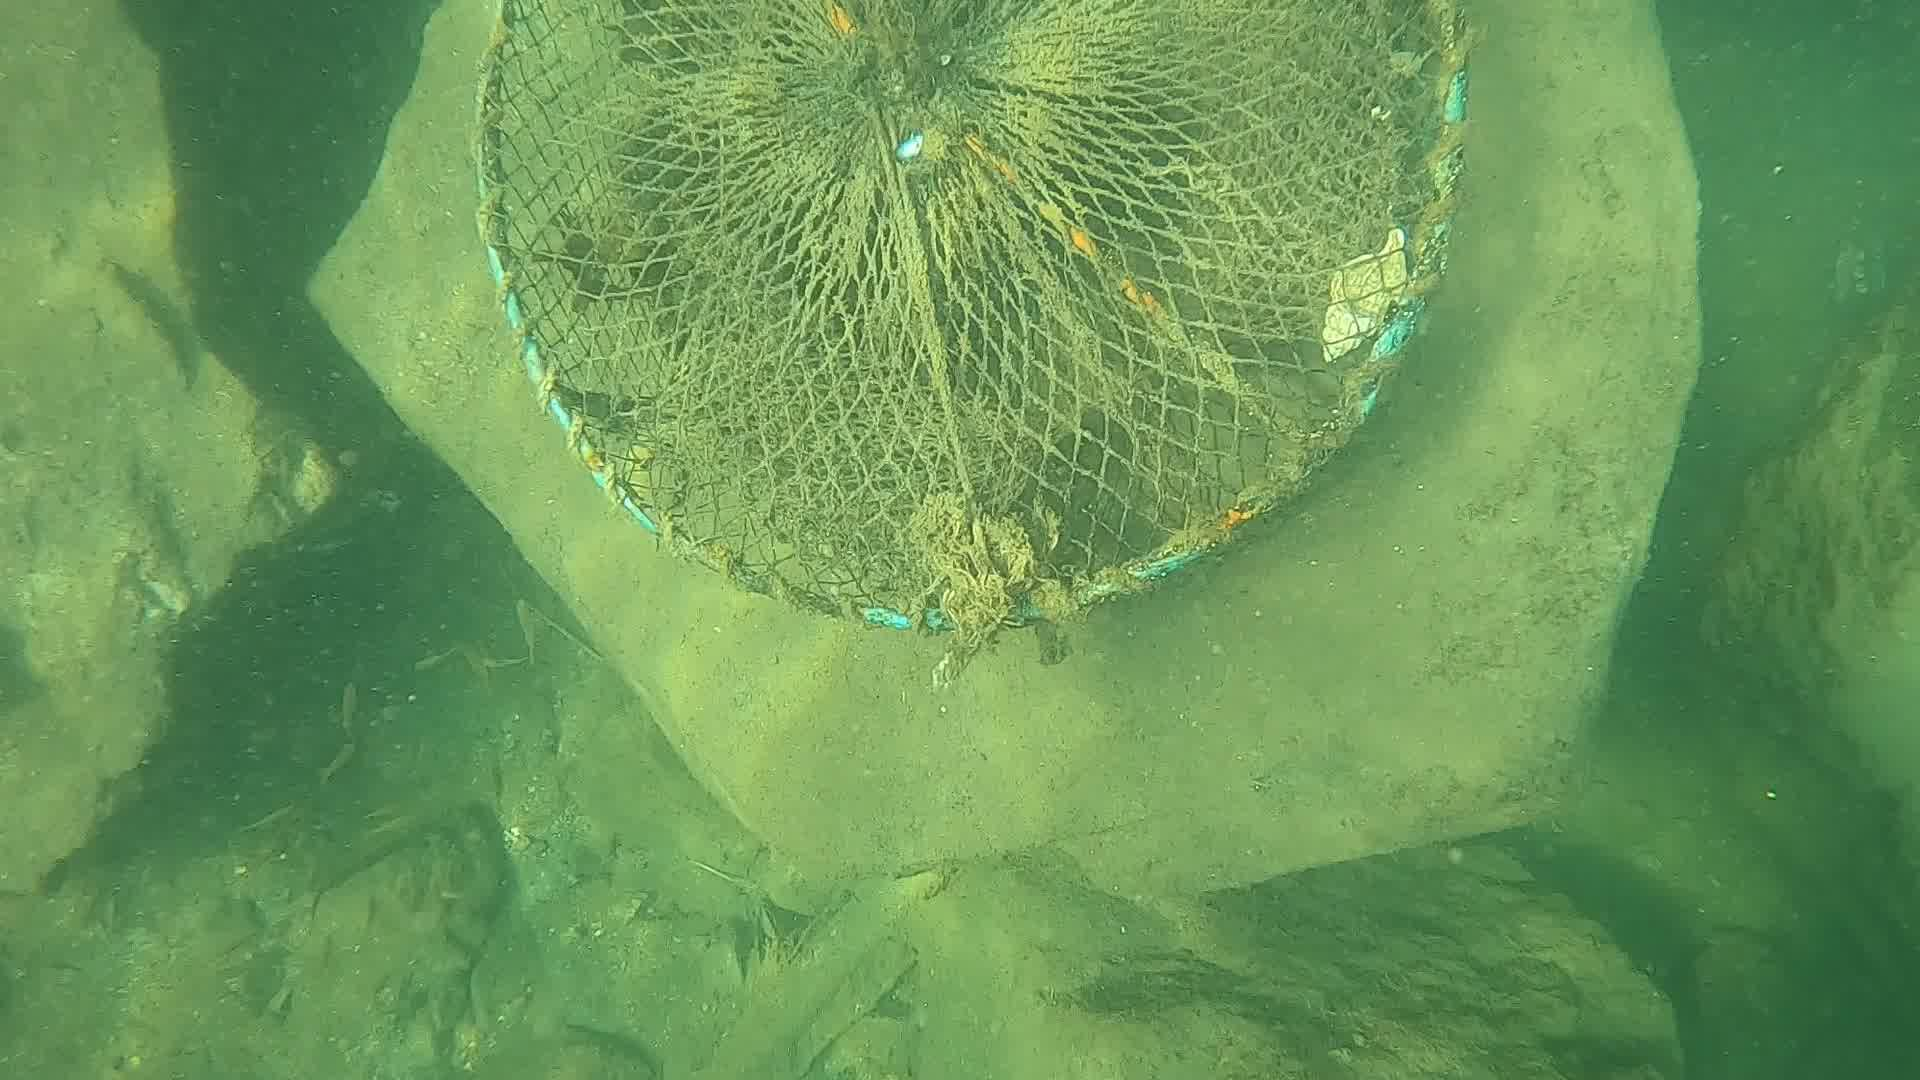circular fish trap: (469, 1, 1474, 632)
